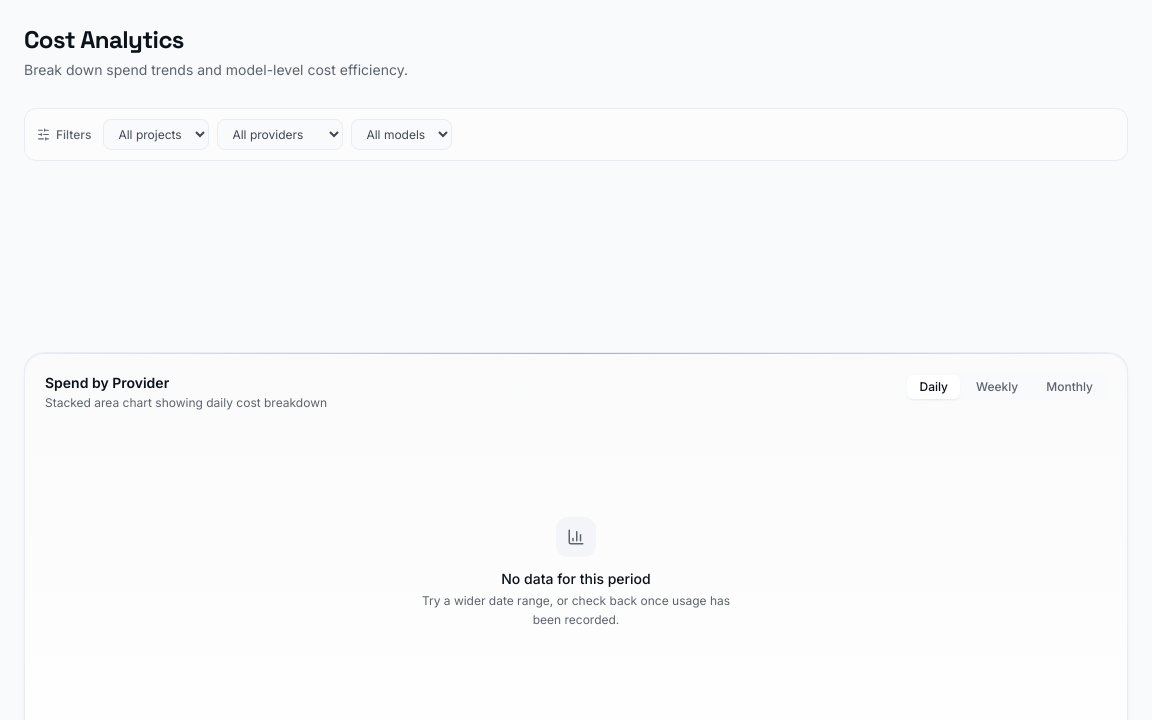
Analytics (EP-24.1) › shows a Clear filters button only once a filter is active
Expected: the text "Clear filters" is not shown
Select "Anthropic" in the dropdown named "Filter by provider": (280, 134) [217,119,343,150]
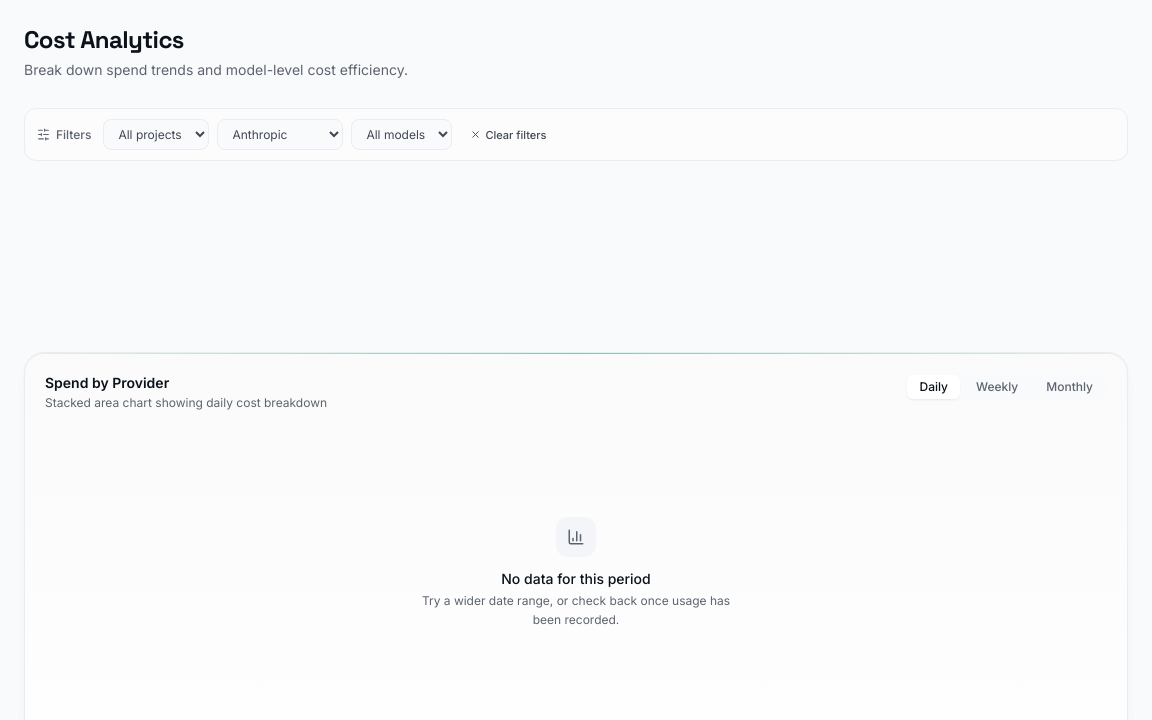
Expected: the button "Clear filters" is shown
Click the button "Clear filters": (508, 134) [460,120,556,148]
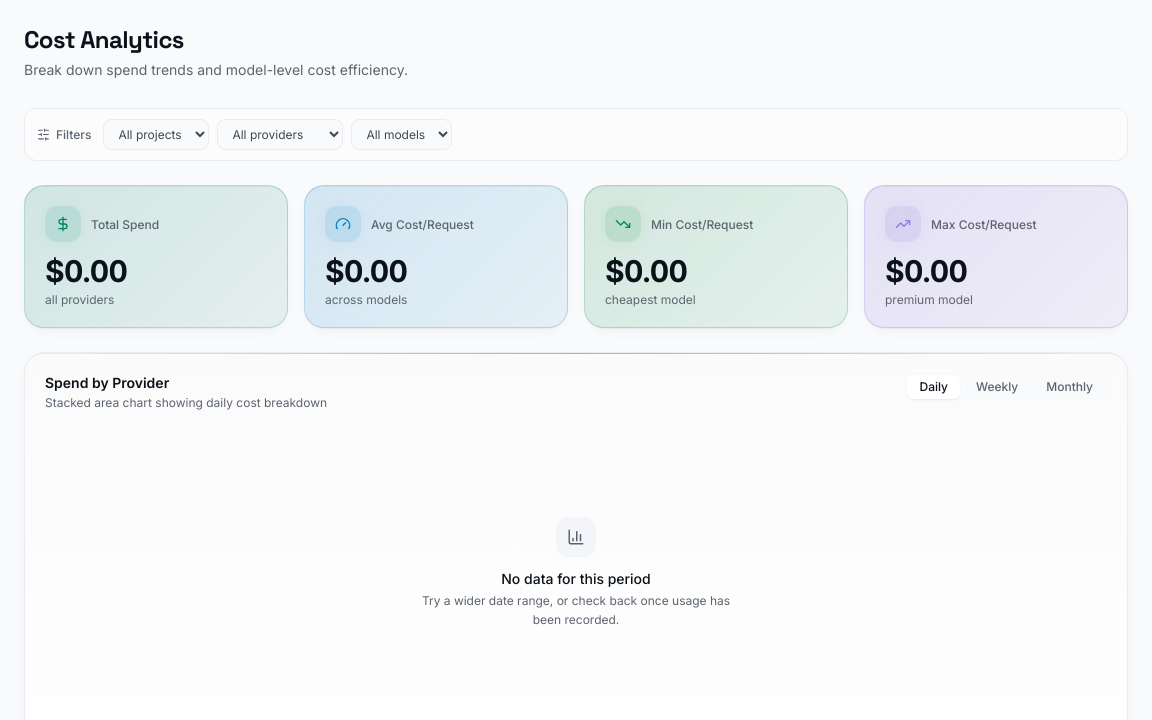
Expected: the button "Clear filters" is gone
